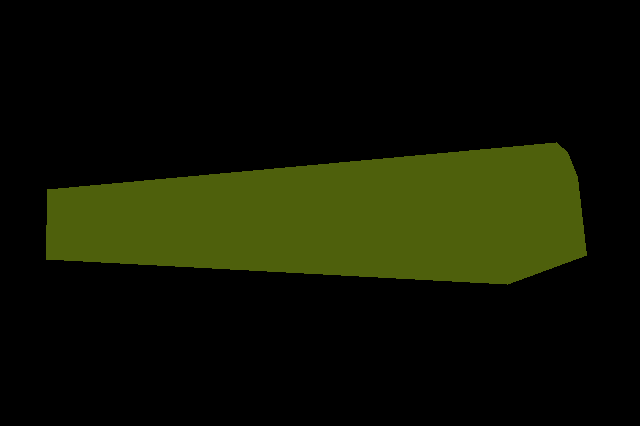Train: (46, 142, 587, 284)
